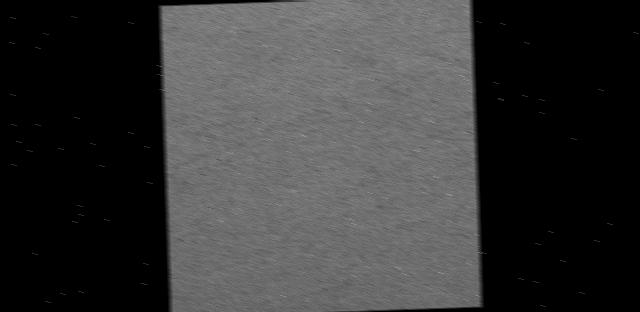silk_spot: (158, 17, 472, 312)
